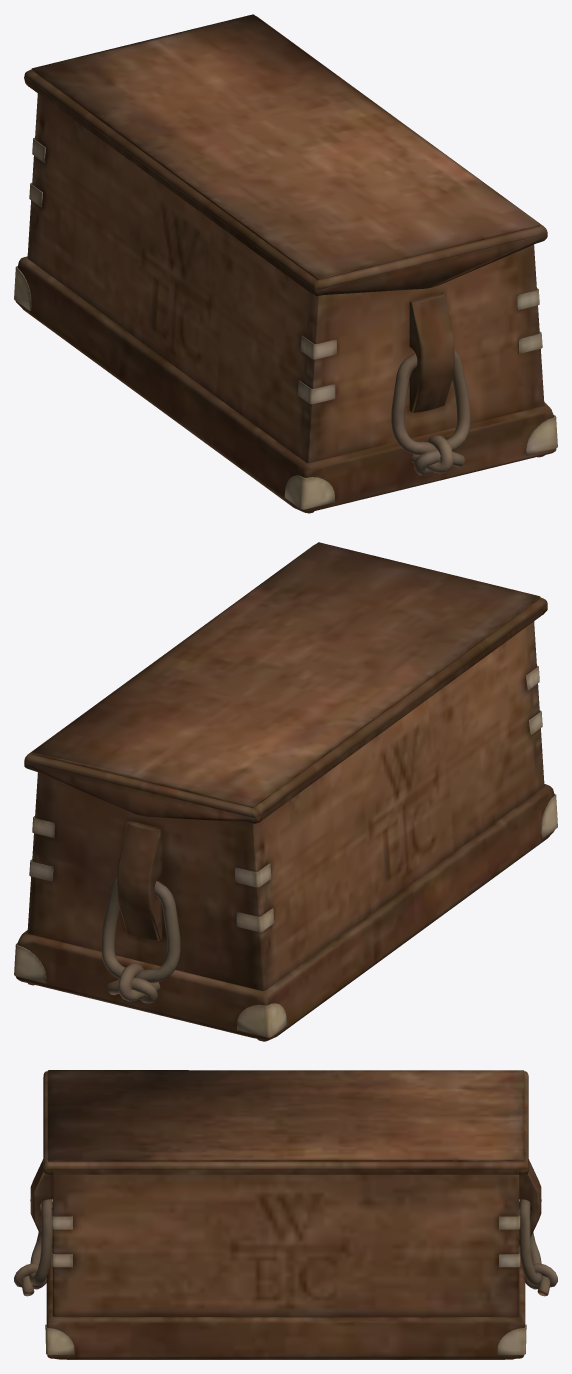
File: wooden_crate_02.glb
3 renders of one model, top to bottom at view 1: azimuth 30°, elevation 25°; view 2: azimuth 150°, elevation 25°; view 3: azimuth 270°, elevation 25°, orthographic. The views are drawn at different scales.
Parts seen in each view (by area): view 1: wooden_crate_02_crate; view 2: wooden_crate_02_crate; view 3: wooden_crate_02_crate.
Part boxes in pixels (x1,y1,x2,y2): wooden_crate_02_crate: [14, 14, 557, 513]; wooden_crate_02_crate: [14, 542, 557, 1041]; wooden_crate_02_crate: [14, 1070, 557, 1359].
Bounding box in the file's own units: 0.5291 × 0.4639 × 1.17.
Materials: 1 (1 with a texture image).
